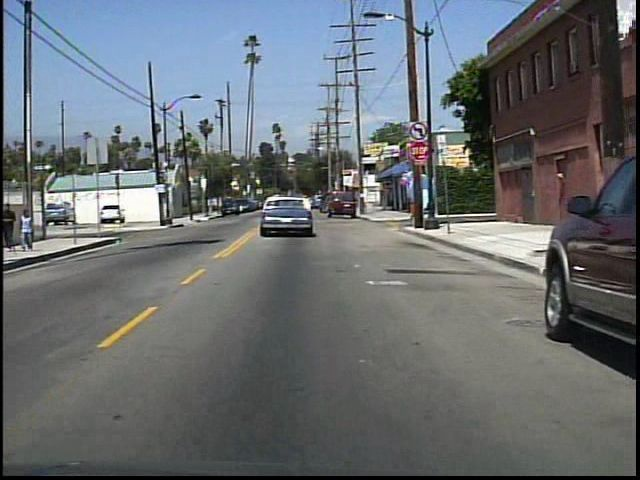person: (20, 205, 41, 253), (4, 200, 23, 252)
